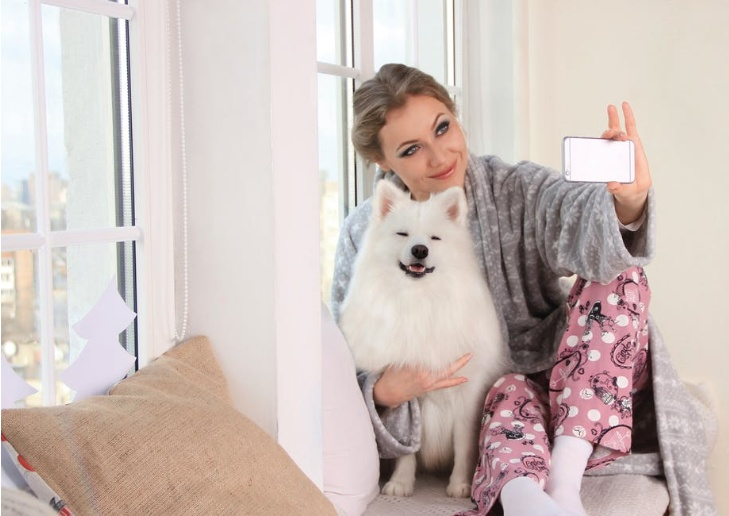face: (379, 96, 467, 189)
